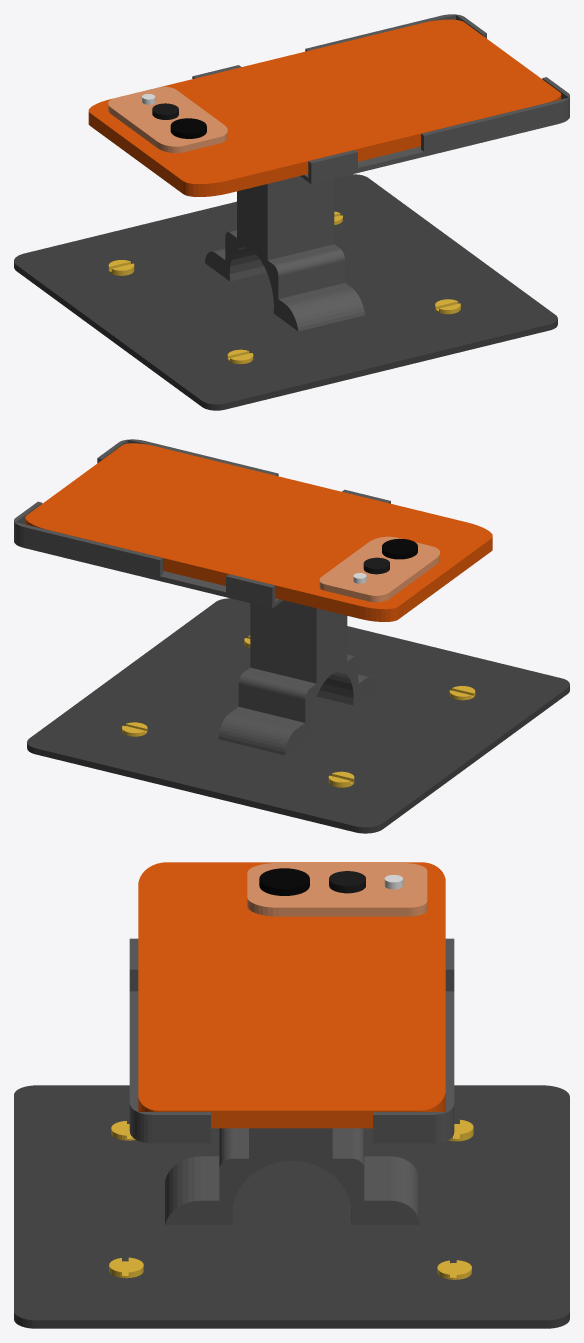
The model's file is end1.dae.
3 views of the same model, one above another, from view 1: azimuth 30°, elevation 25°; view 2: azimuth 150°, elevation 25°; view 3: azimuth 270°, elevation 25° (orthographic). The views are drawn at different scales.
Parts seen in each view (by area): view 1: Cylinder.002; view 2: Cylinder.002; view 3: Cylinder.002.
Boxes of the visible parts, bbox=[...] form: Cylinder.002: bbox=[14, 14, 569, 410]; Cylinder.002: bbox=[14, 439, 569, 833]; Cylinder.002: bbox=[14, 862, 569, 1328].
Size of the model in its own units: 69.35 by 60 by 35.79.
